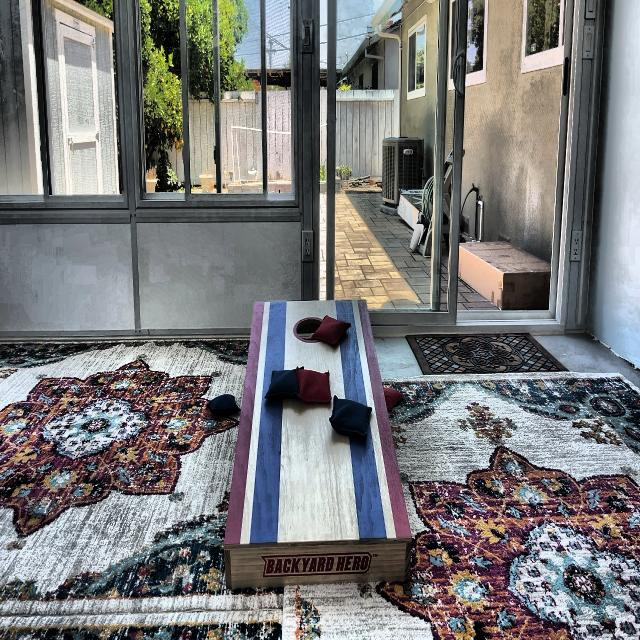blue-bean-bag: (329, 396, 372, 438), (266, 369, 298, 399), (208, 394, 240, 413)
board: (248, 299, 374, 544)
hole: (294, 316, 328, 343)
red-bean-bag: (311, 314, 352, 347), (297, 368, 332, 402), (382, 384, 406, 411)
